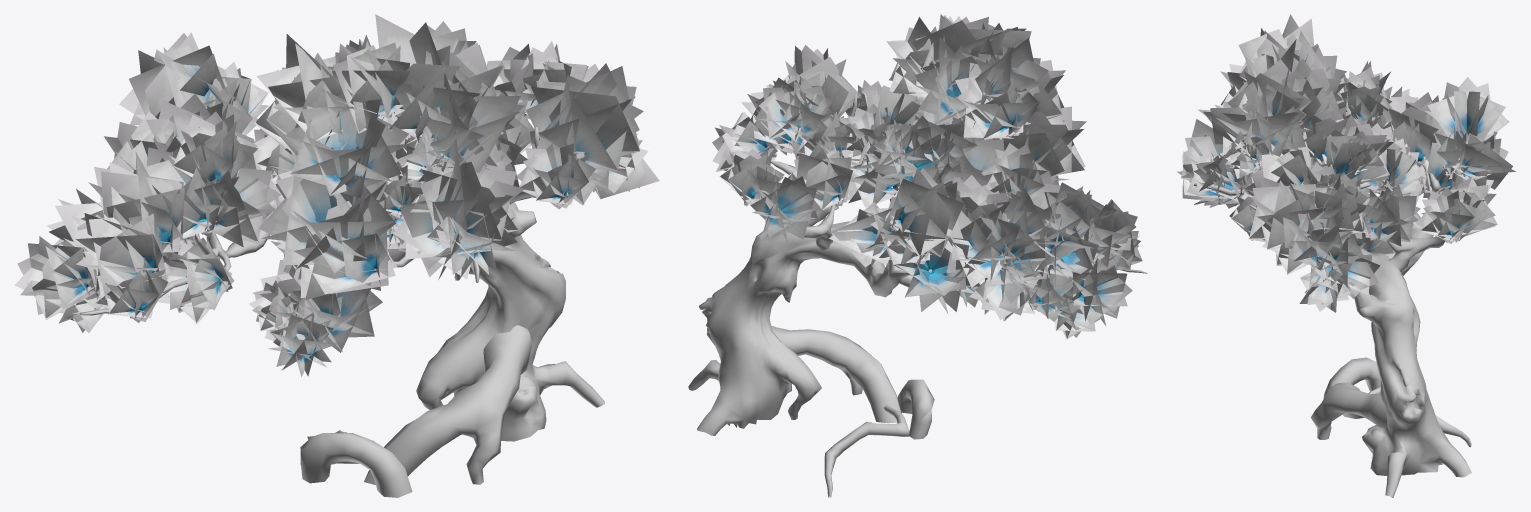
The model's file is shu_yunmeng_02.FBX.
3 views of the same model, side by side, from view 1: azimuth 30°, elevation 25°; view 2: azimuth 150°, elevation 25°; view 3: azimuth 270°, elevation 25° (orthographic). The views are drawn at different scales.
Parts seen in each view (by area): view 1: Mesh_0019, Mesh_124, Mesh_0038; view 2: Mesh_0019, Mesh_0038, Mesh_124; view 3: Mesh_0019, Mesh_0038, Mesh_124.
Boxes of the visible parts, box(x1,y1,x2,y2) form: Mesh_0019: box(14, 14, 659, 376); Mesh_124: box(15, 15, 658, 374); Mesh_0038: box(80, 126, 604, 497); Mesh_0019: box(712, 14, 1142, 338); Mesh_0038: box(688, 87, 1147, 497); Mesh_124: box(712, 15, 1141, 338); Mesh_0019: box(1177, 14, 1515, 312); Mesh_0038: box(1194, 161, 1475, 497); Mesh_124: box(1178, 16, 1512, 312).
Bounding box in the file's own units: 2158 × 1968 × 1555.
